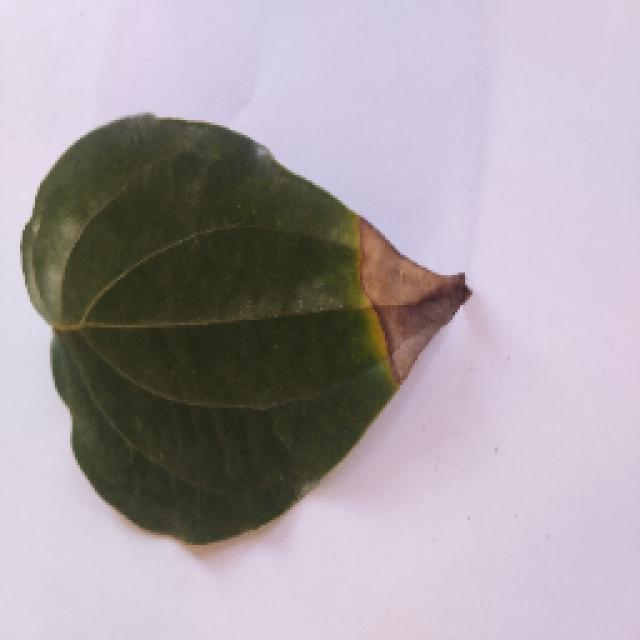footrot: (18, 112, 468, 542)
